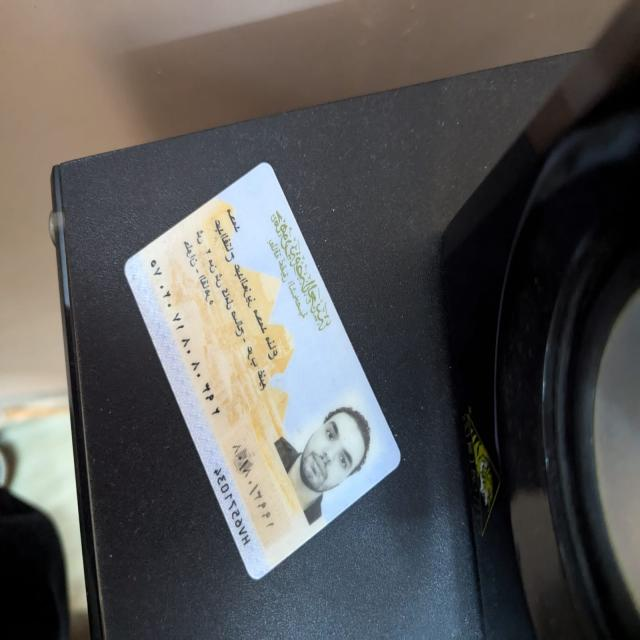id_card: (114, 152, 408, 594)
